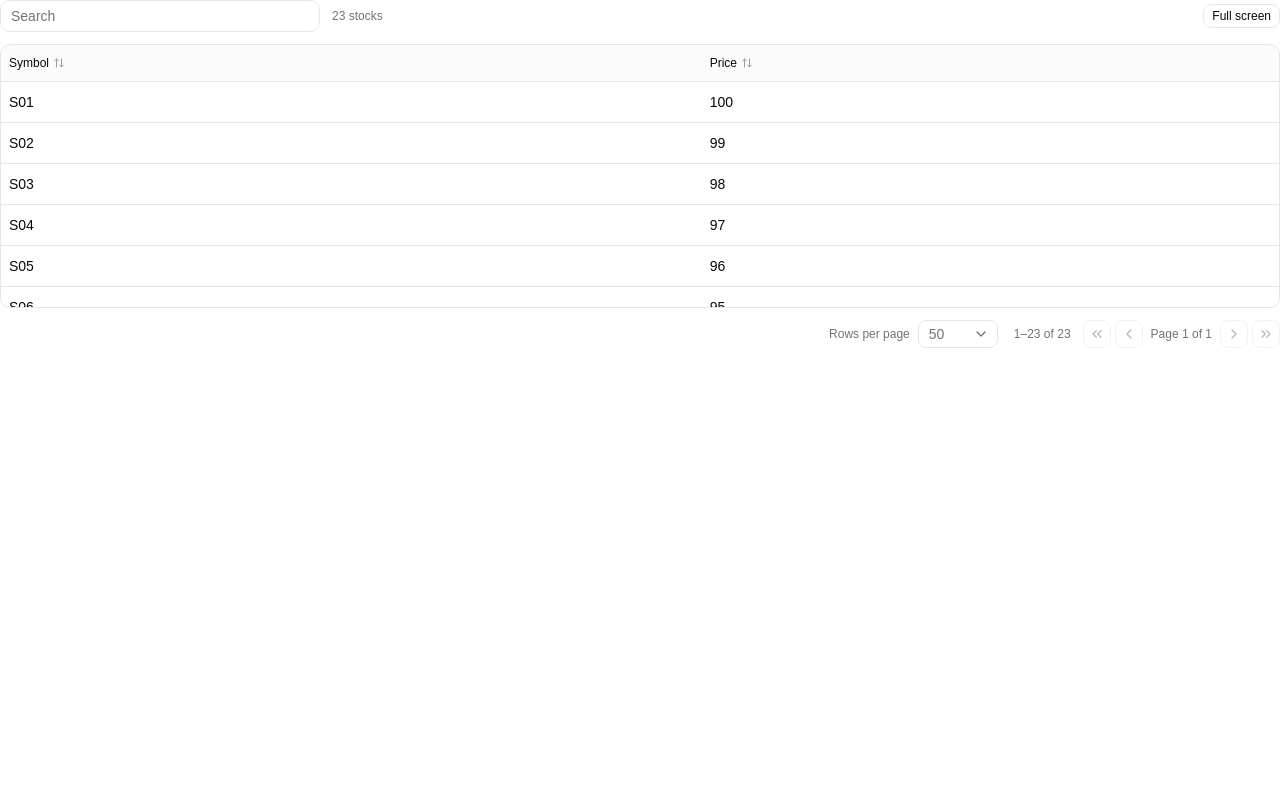
it: SearchableTable › opens the same list in full screen with the search kept and a fixed header, and closes it again
Type "S2" into the field named "Search stocks" at (160, 16), box [0, 0, 320, 32]
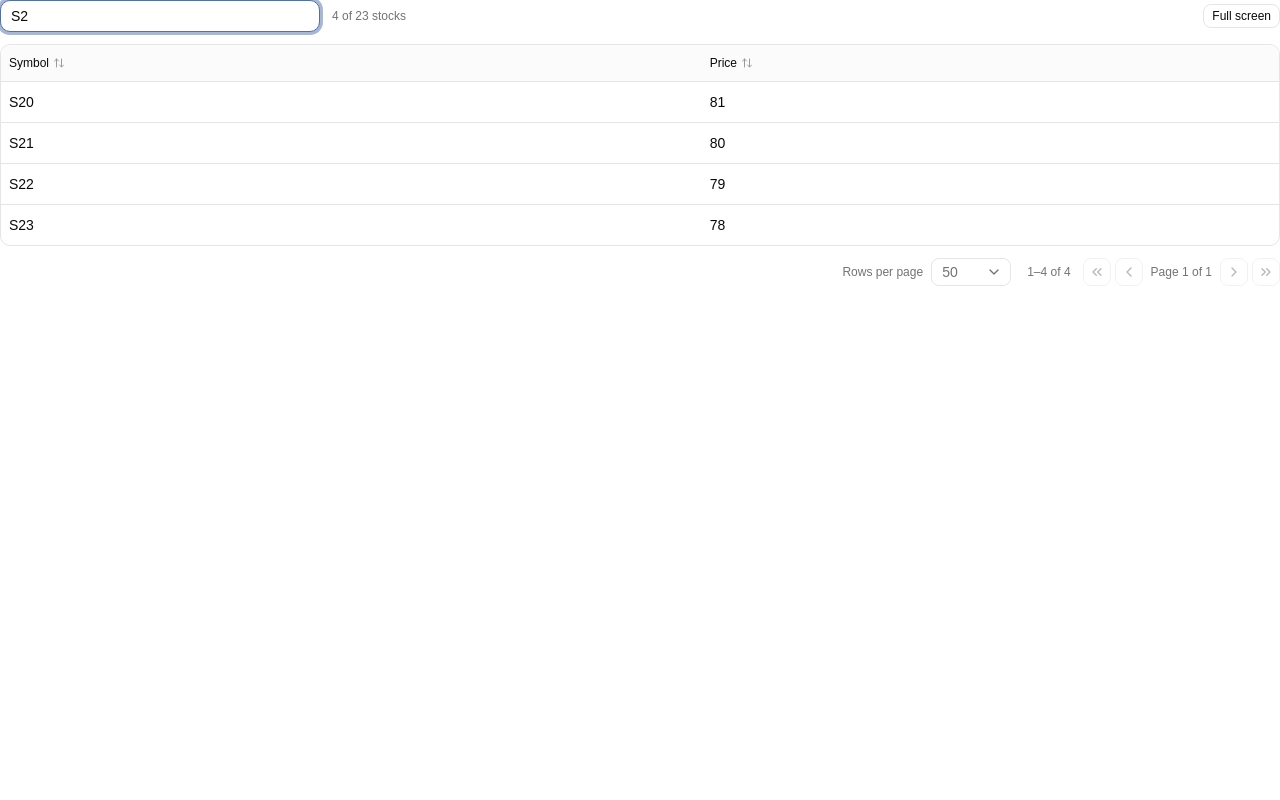
Click the button "Full screen" at (1242, 16), box [1203, 4, 1279, 28]
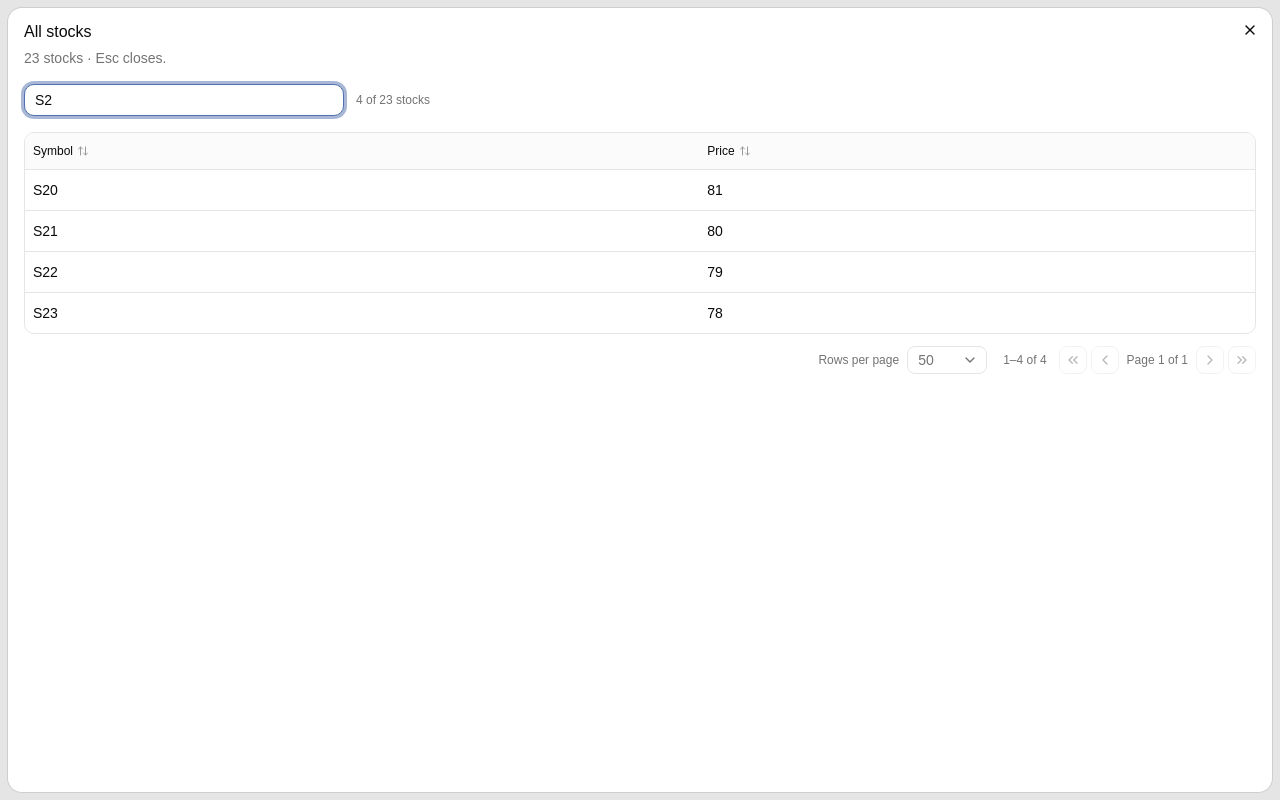
Now the field named "Search stocks" holds "S2", box [24, 84, 344, 116]
Now the button "Full screen" is gone
Press Escape
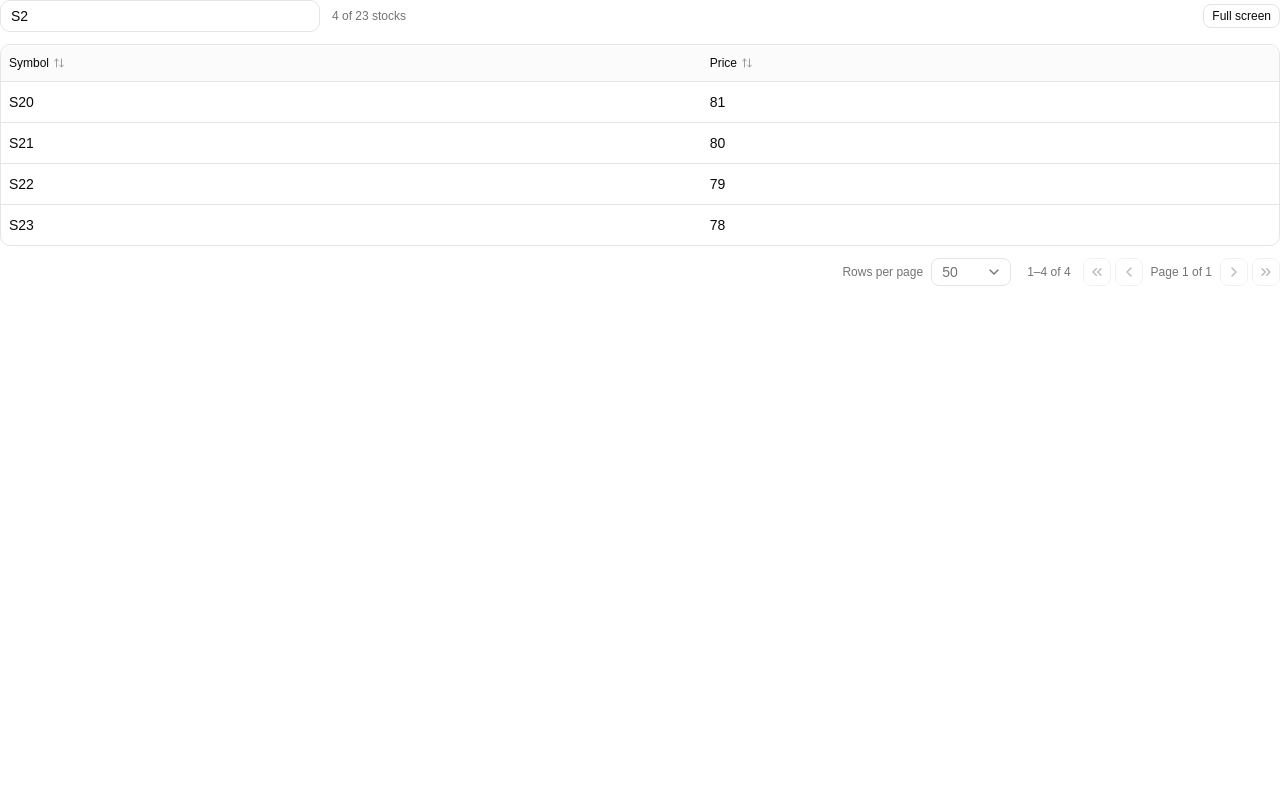
Now the button "Full screen" is shown, box [1203, 4, 1279, 28]
